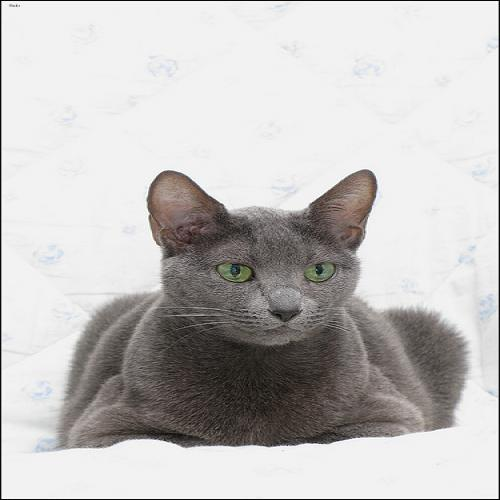rblue: (128, 156, 387, 354)
